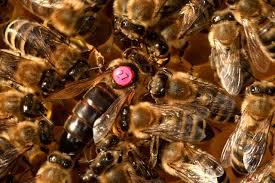Queen-Bee: (56, 44, 151, 155)
worker-bee: (152, 62, 243, 124), (2, 13, 88, 74), (227, 71, 275, 178), (117, 103, 213, 147), (209, 7, 251, 97), (154, 0, 211, 65)
